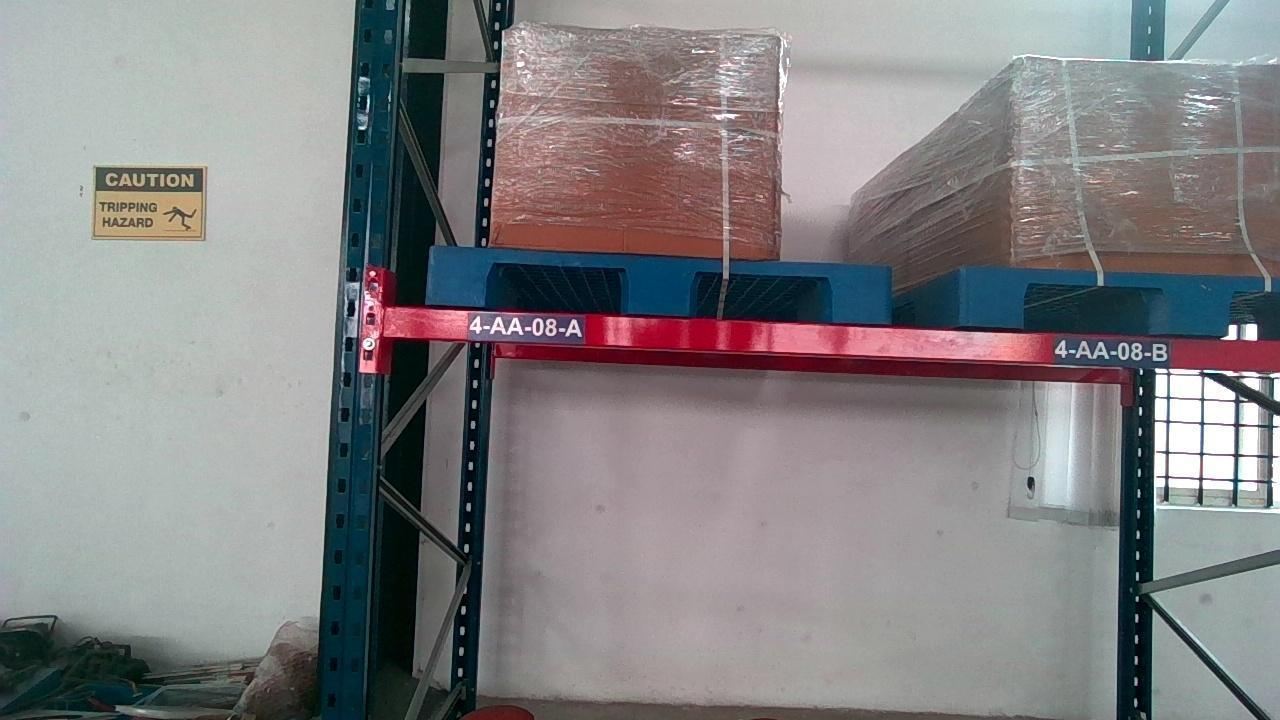h_rack: (381, 305, 1280, 376)
small_pallet: (423, 249, 892, 317), (962, 269, 1277, 332)
